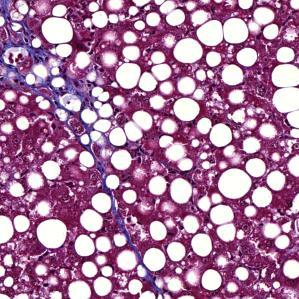fibrosis: (25, 65, 91, 110)
